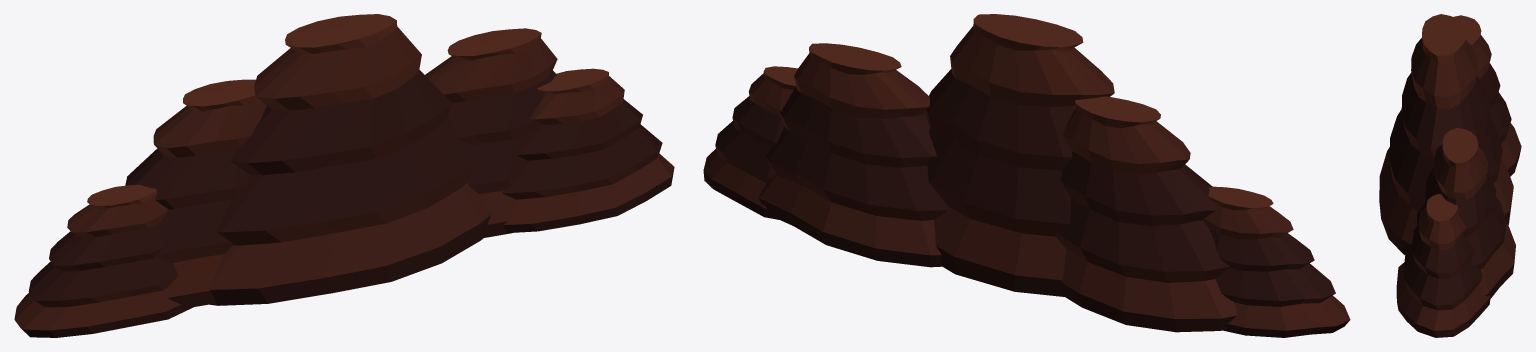
The model's file is volcanic_backdrop_ridge.obj.
The picture shows the model from 3 angles, left to right: view 1: azimuth 30°, elevation 25°; view 2: azimuth 150°, elevation 25°; view 3: azimuth 270°, elevation 25°; orthographic projection. The views are drawn at different scales.
Parts seen in each view (by area): view 1: volcanic_backdrop_ridge; view 2: volcanic_backdrop_ridge; view 3: volcanic_backdrop_ridge.
Part boxes in pixels (x1=…): volcanic_backdrop_ridge: x1=14, y1=14, x2=674, y2=337; volcanic_backdrop_ridge: x1=703, y1=14, x2=1350, y2=337; volcanic_backdrop_ridge: x1=1379, y1=14, x2=1521, y2=337.
Bounding box in the file's own units: 146 × 49.52 × 34.97.
